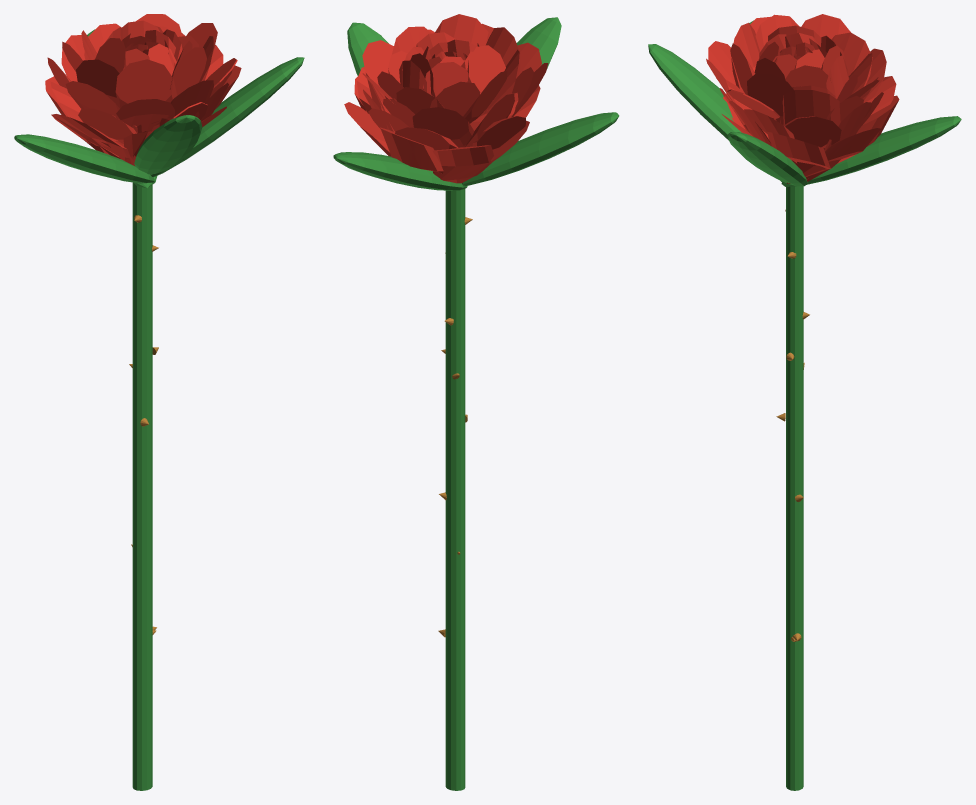
3 views of the same model, side by side, from view 1: azimuth 30°, elevation 25°; view 2: azimuth 150°, elevation 25°; view 3: azimuth 270°, elevation 25° (orthographic).
Visible parts, largest first — view 1: node_MeshObject-1841292928-PolyPaper8; view 2: node_MeshObject-1841292928-PolyPaper8; view 3: node_MeshObject-1841292928-PolyPaper8.
Part boxes in pixels (x1,y1,x2,y2): node_MeshObject-1841292928-PolyPaper8: (14,14,304,790); node_MeshObject-1841292928-PolyPaper8: (333,14,619,790); node_MeshObject-1841292928-PolyPaper8: (648,14,961,790).
Bounding box in the file's own units: 1.08 × 2.8 × 1.06.
